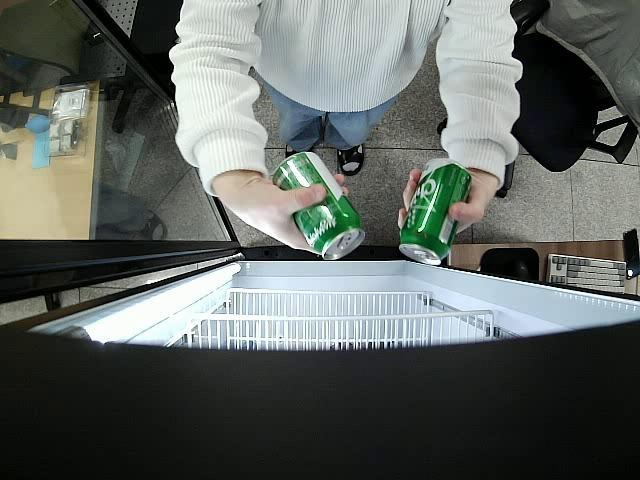12_chilsungCider: (272, 152, 366, 260), (398, 158, 473, 266)
